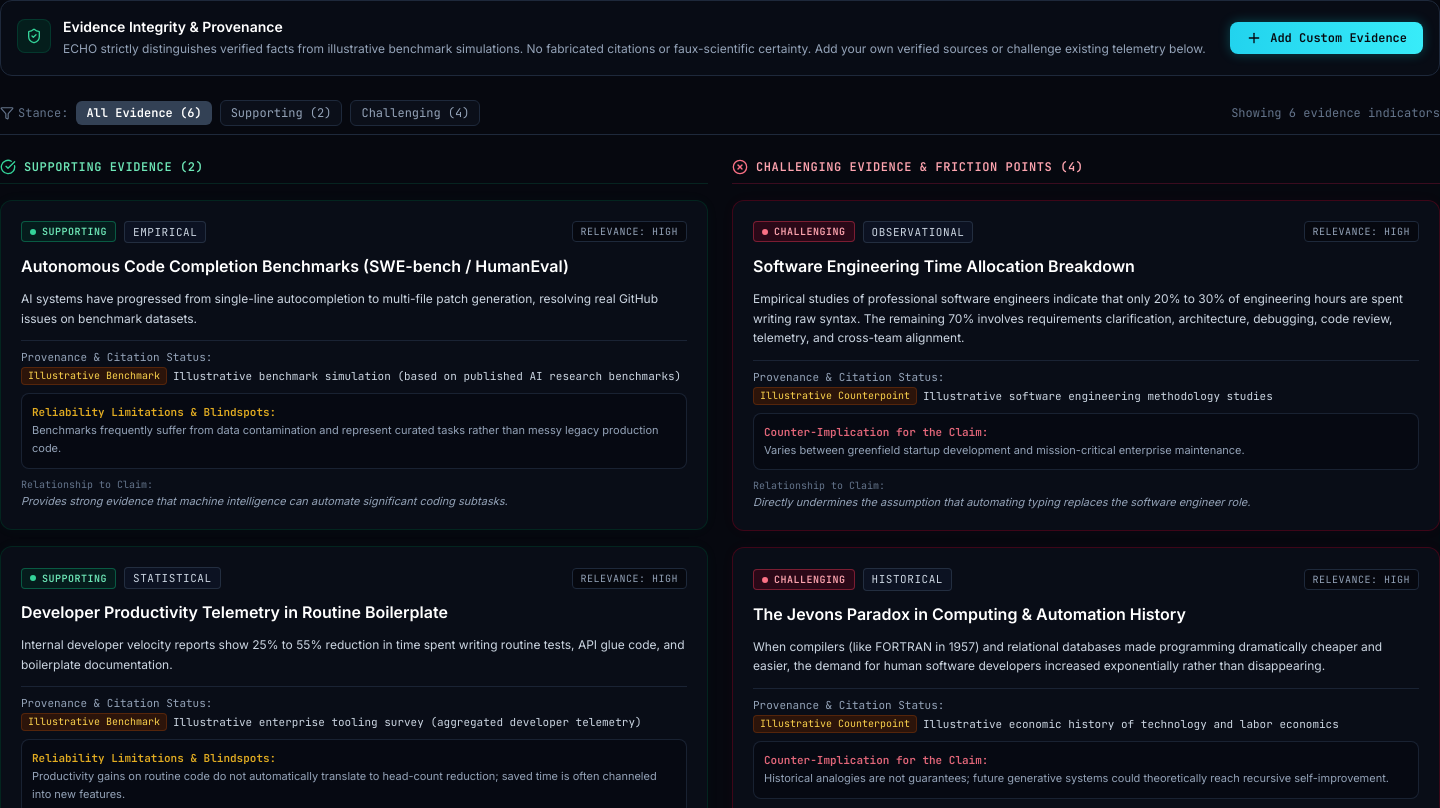
Test case: EvidenceExplorer Component › filters by stance when stance filter buttons are clicked
Click the button "Supporting (2)" at (281, 112), box 220,100 -> 342,126
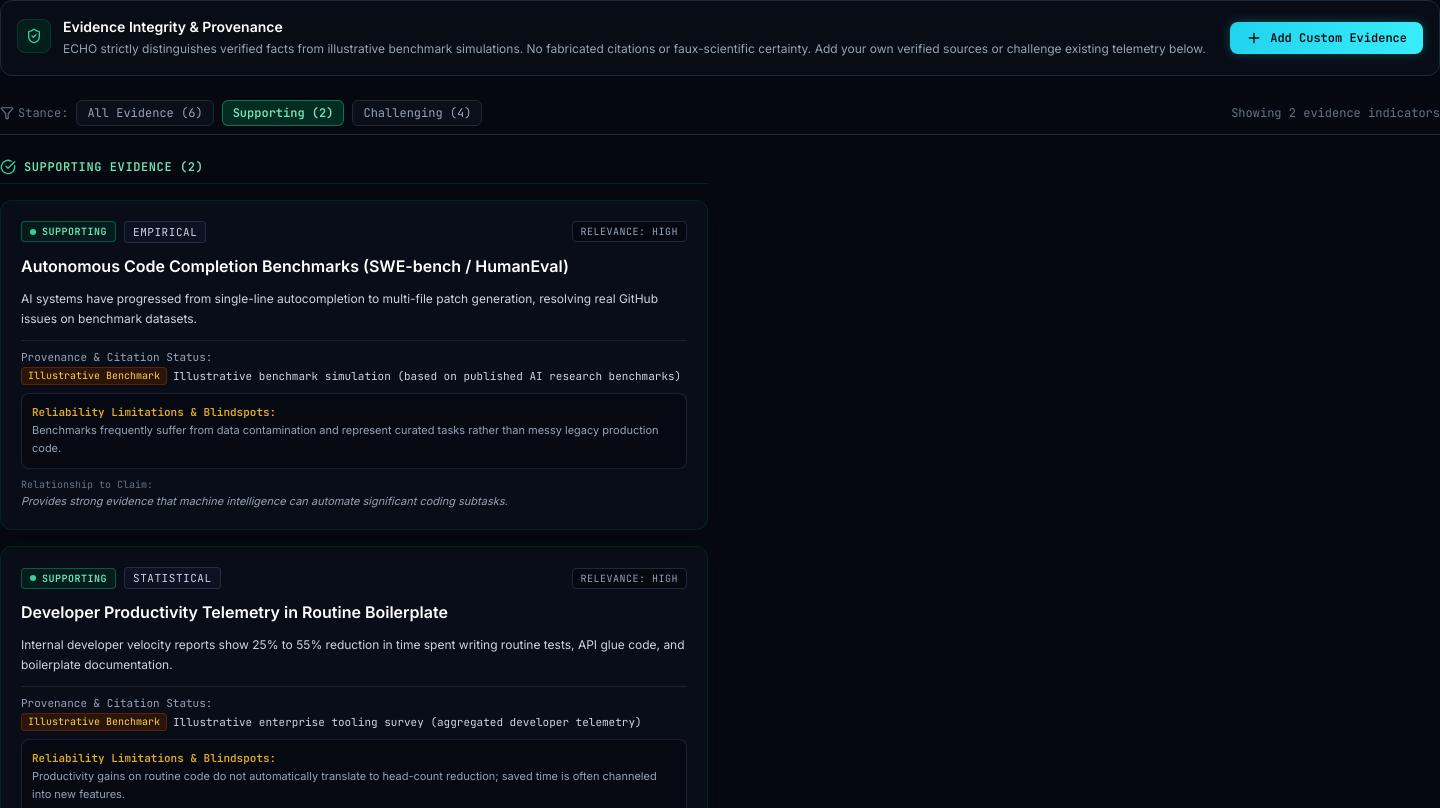
Expected: the heading "Supporting Evidence (2)" is shown, 24,158 -> 203,174
Expected: the heading "Challenging Evidence" is gone
